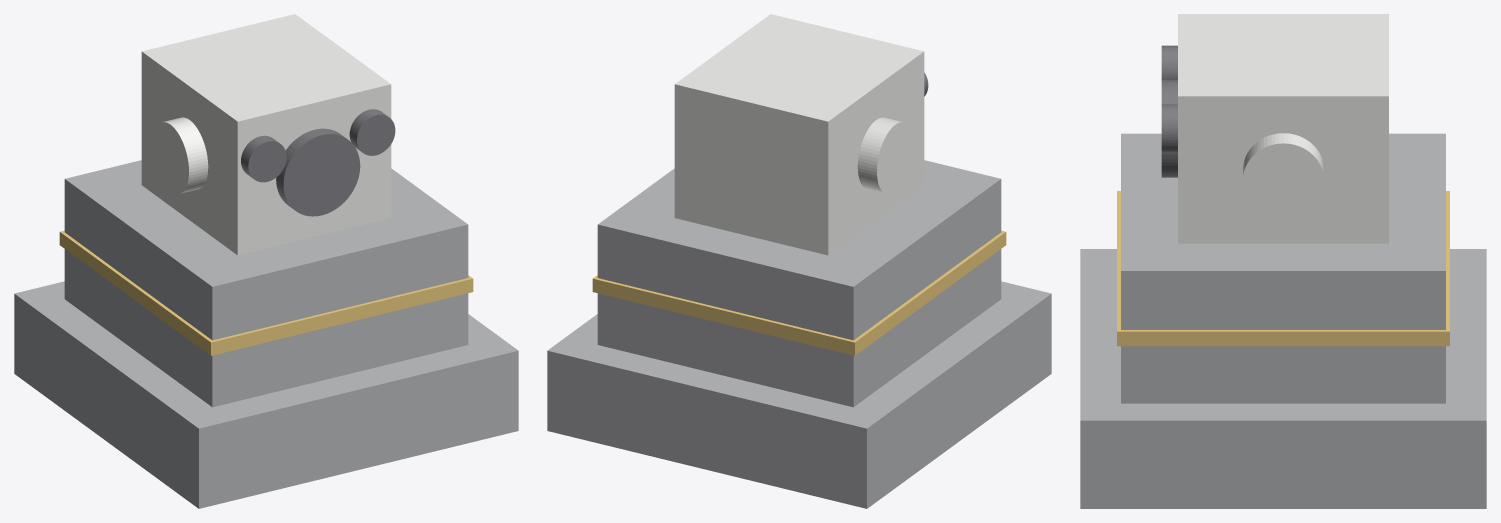
Rendered from rover33_science_turret.glb.
3 renders of one model, left to right at view 1: azimuth 30°, elevation 25°; view 2: azimuth 150°, elevation 25°; view 3: azimuth 270°, elevation 25°, orthographic. The views are drawn at different scales.
Parts seen in each view (by area): view 1: base, head, head_optics, base_trim; view 2: base, head, base_trim; view 3: base, head, base_trim, head_optics.
Boxes of the visible parts, bbox=[...] form: base: bbox=[14, 160, 518, 508]; head: bbox=[141, 14, 391, 255]; head_optics: bbox=[241, 109, 395, 216]; base_trim: bbox=[59, 230, 473, 355]; base: bbox=[547, 160, 1051, 508]; head: bbox=[674, 14, 924, 255]; base_trim: bbox=[592, 230, 1006, 355]; base: bbox=[1080, 133, 1486, 508]; head: bbox=[1178, 14, 1388, 243]; base_trim: bbox=[1117, 191, 1449, 346]; head_optics: bbox=[1161, 45, 1177, 177].
Bounding box in the file's own units: 0.5 × 0.5 × 0.5.
